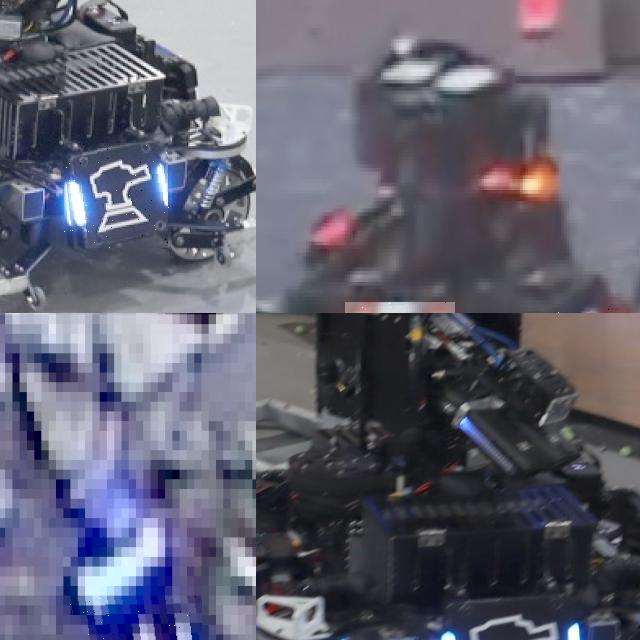B1: (70, 595, 201, 640)
Bs: (64, 143, 170, 249), (438, 609, 587, 640)
